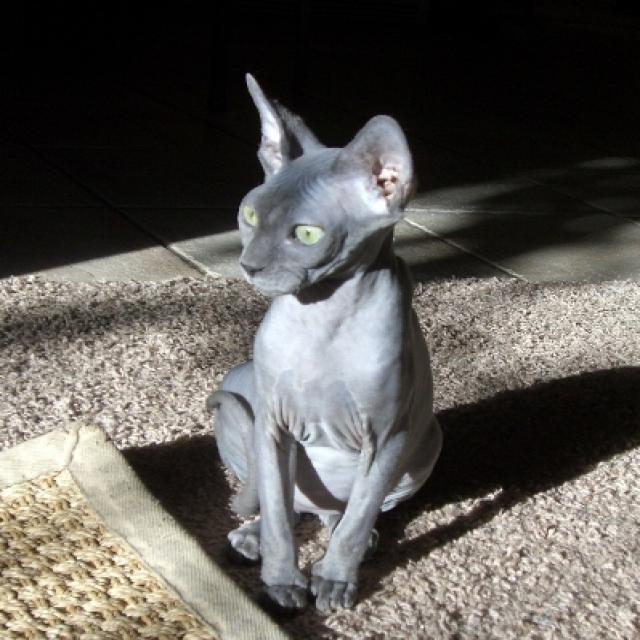Sphynx: (231, 64, 420, 300)
